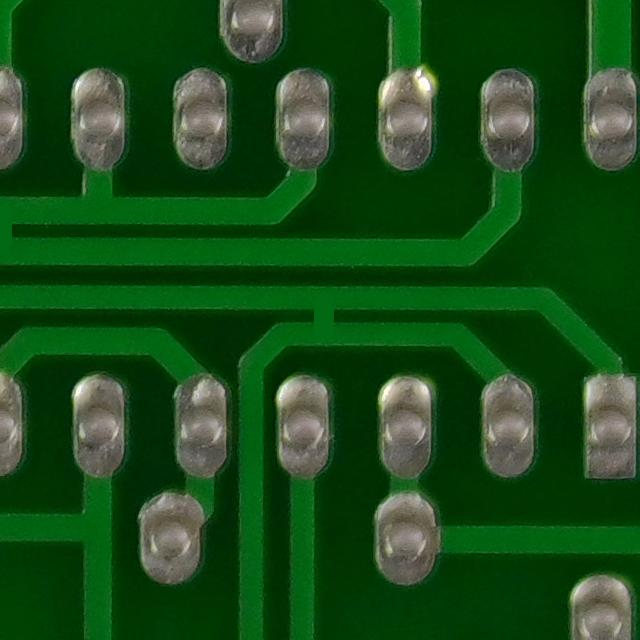short: (287, 281, 354, 359)
